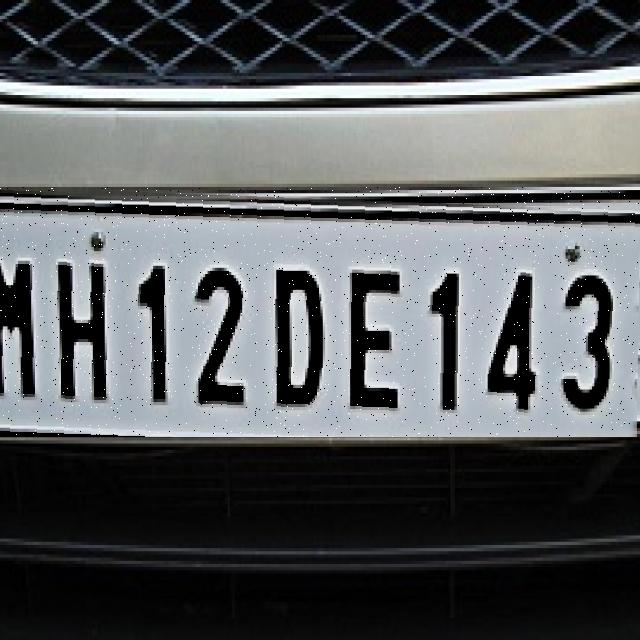Plate: (1, 188, 640, 438)
